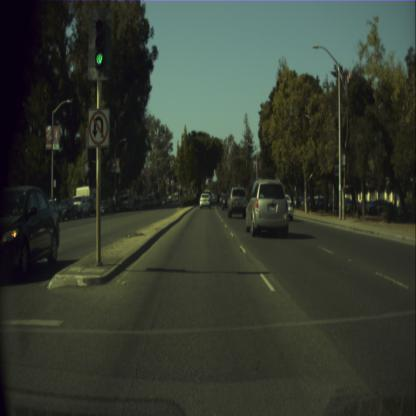Green: (93, 19, 104, 67)
